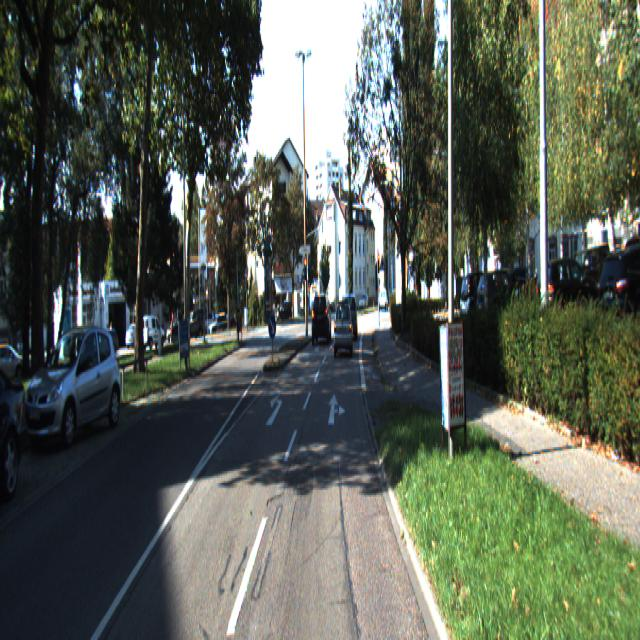Car: (24, 325, 122, 450), (0, 349, 30, 508), (476, 267, 525, 322), (459, 270, 502, 322), (312, 293, 332, 344), (334, 304, 352, 356), (342, 294, 358, 339)
